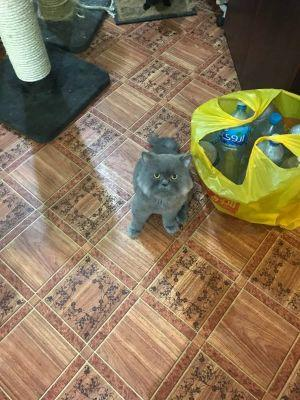persian: (136, 150, 198, 205)
